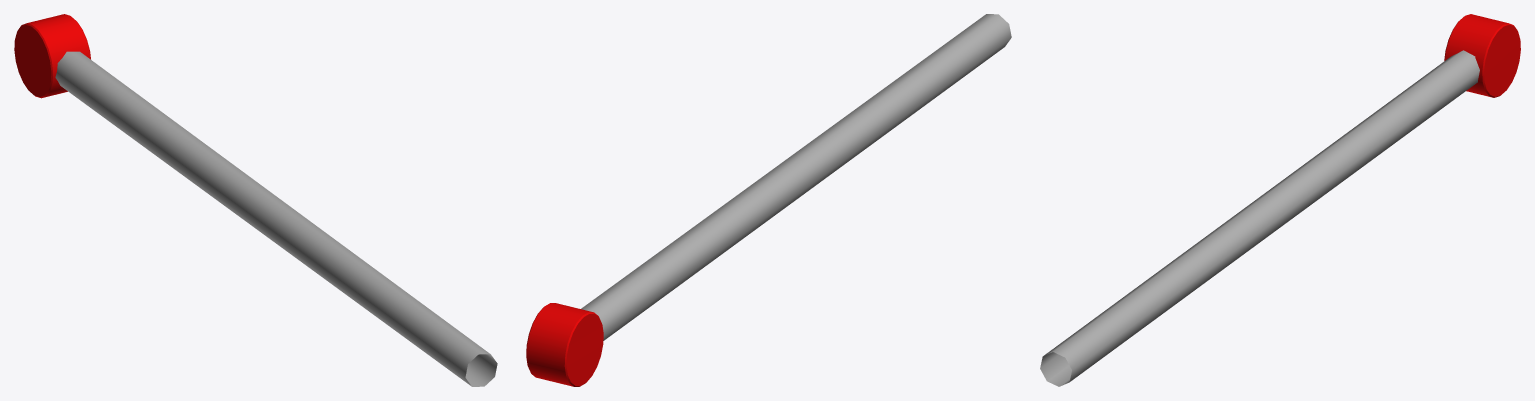
File: ExcavatorMachine_Cylinder02_01a_snaps005.fbx
The picture shows the model from 3 angles, left to right: view 1: azimuth 30°, elevation 25°; view 2: azimuth 150°, elevation 25°; view 3: azimuth 330°, elevation 25°; orthographic projection.
Visible parts, largest first — view 1: ExcavatorMachine_Cylinder02_01a_snaps005; view 2: ExcavatorMachine_Cylinder02_01a_snaps005; view 3: ExcavatorMachine_Cylinder02_01a_snaps005.
Boxes of the visible parts, <box> form: ExcavatorMachine_Cylinder02_01a_snaps005: <box>14,14,497,386</box>; ExcavatorMachine_Cylinder02_01a_snaps005: <box>526,14,1011,386</box>; ExcavatorMachine_Cylinder02_01a_snaps005: <box>1040,14,1520,386</box>.
Bounding box in the file's own units: 12.11 × 20.01 × 234.
